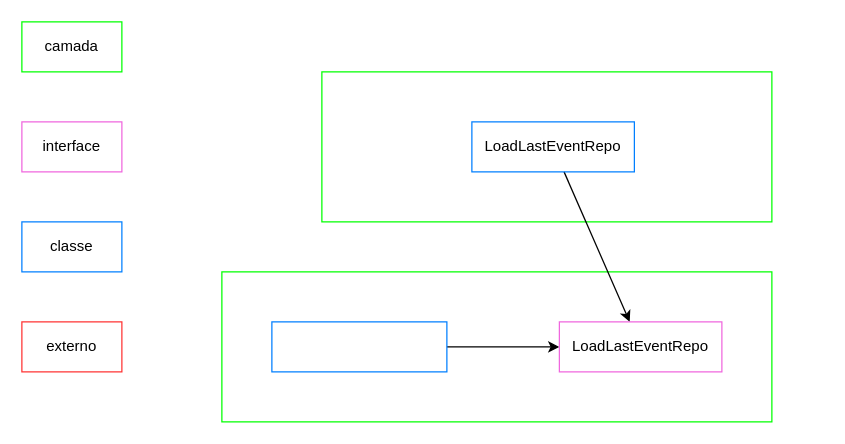
Some shapes in this 845 by 444 pixel diagram are drawn without their labels. Each missing label, with the box of its shape:
CheckLoadEventStatus: (271, 321, 447, 372)
domain: (221, 271, 772, 422)
infra: (321, 71, 772, 222)
